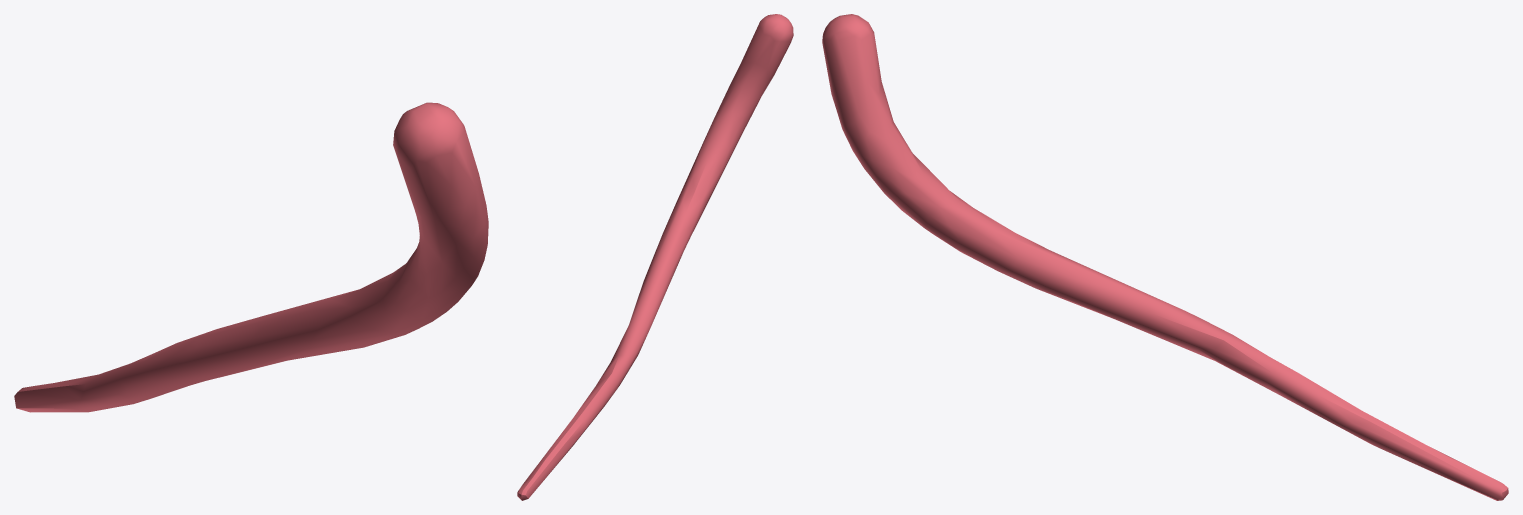
File: fma18809.glb
3 views of the same model, side by side, from view 1: azimuth 30°, elevation 25°; view 2: azimuth 150°, elevation 25°; view 3: azimuth 270°, elevation 25° (orthographic). The views are drawn at different scales.
Visible parts, largest first — view 1: FMA18809; view 2: FMA18809; view 3: FMA18809.
Part boxes in pixels (x1,y1,x2,y2): FMA18809: (14, 102, 488, 412); FMA18809: (517, 14, 793, 500); FMA18809: (822, 14, 1508, 500).
Bounding box in the file's own units: 0.0116 × 0.0621 × 0.083.
